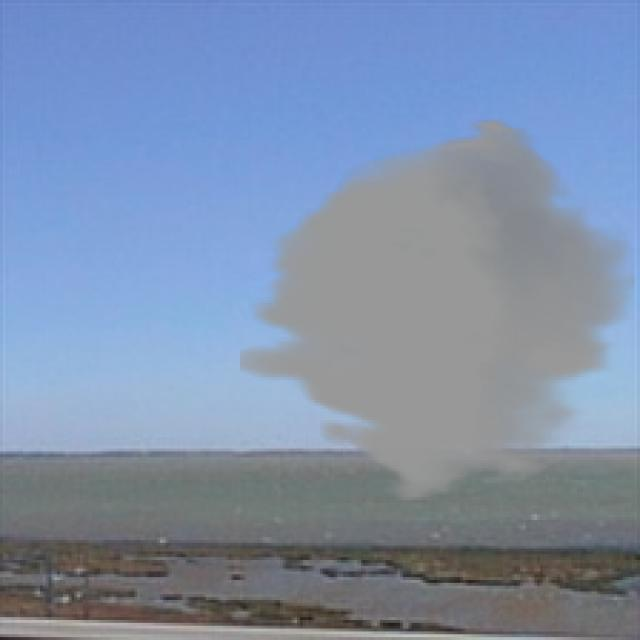Smoke: (240, 117, 634, 503)
